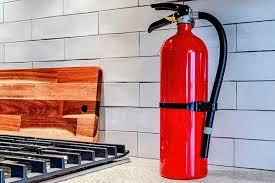floor-kept: (140, 0, 232, 181)
